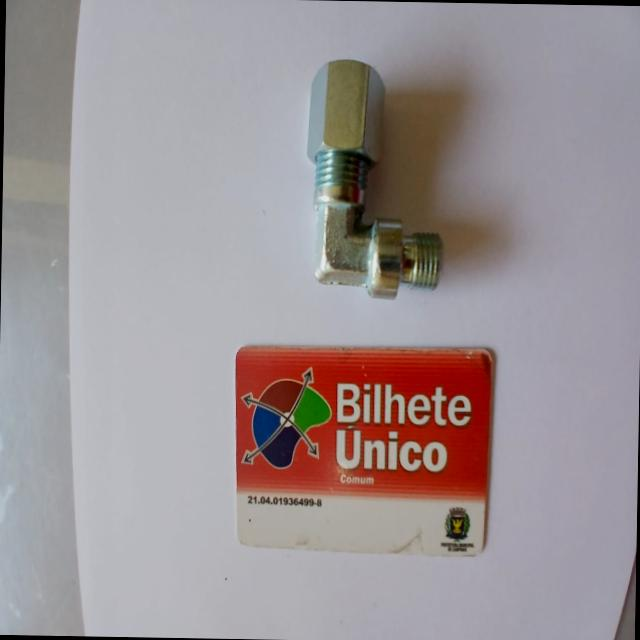cartao: (234, 345, 492, 552)
rosca_externa: (305, 56, 448, 298)
